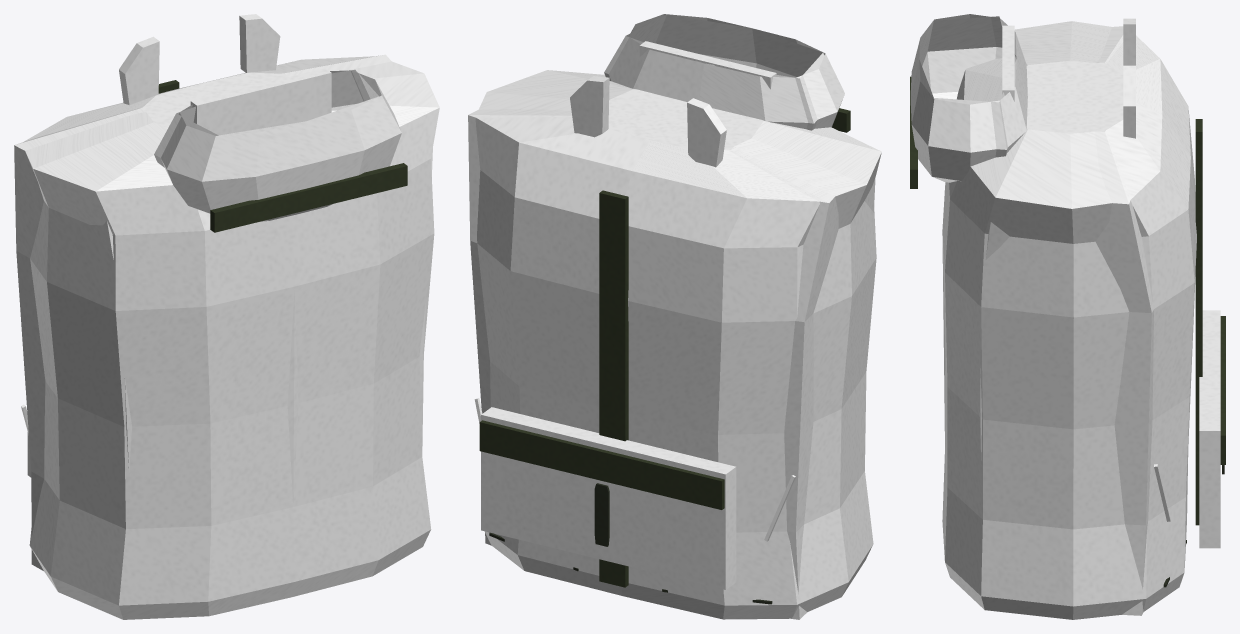
The model's file is jacket_sumrak.glb.
The picture shows the model from 3 angles, left to right: view 1: azimuth 30°, elevation 25°; view 2: azimuth 150°, elevation 25°; view 3: azimuth 270°, elevation 25°; orthographic projection. The views are drawn at different scales.
Parts seen in each view (by area): view 1: jacket_sumrak_torso_LOD0_RAID_cloth.001, jacket_sumrak_torso_LOD1_RAID_cloth.001, jacket_sumrak_torso_LOD0_RAID_reinforce.001, jacket_sumrak_torso_LOD1_RAID_reinforce.001; view 2: jacket_sumrak_torso_LOD0_RAID_cloth.001, jacket_sumrak_torso_LOD1_RAID_cloth.001, jacket_sumrak_torso_LOD0_RAID_reinforce.001, jacket_sumrak_torso_LOD1_RAID_reinforce.001, jacket_sumrak_torso_LOD0_RAID_seam.001; view 3: jacket_sumrak_torso_LOD0_RAID_cloth.001, jacket_sumrak_torso_LOD1_RAID_cloth.001, jacket_sumrak_torso_LOD0_RAID_reinforce.001, jacket_sumrak_torso_LOD1_RAID_reinforce.001.
Boxes of the visible parts, box(x1,y1,x2,y2) form: jacket_sumrak_torso_LOD0_RAID_cloth.001: box(21, 14, 439, 619); jacket_sumrak_torso_LOD1_RAID_cloth.001: box(14, 54, 432, 570); jacket_sumrak_torso_LOD0_RAID_reinforce.001: box(158, 81, 407, 229); jacket_sumrak_torso_LOD1_RAID_reinforce.001: box(158, 80, 407, 232); jacket_sumrak_torso_LOD0_RAID_cloth.001: box(474, 14, 881, 619); jacket_sumrak_torso_LOD1_RAID_cloth.001: box(468, 14, 875, 619); jacket_sumrak_torso_LOD0_RAID_reinforce.001: box(479, 112, 850, 587); jacket_sumrak_torso_LOD1_RAID_reinforce.001: box(479, 108, 850, 587); jacket_sumrak_torso_LOD0_RAID_seam.001: box(489, 483, 772, 604); jacket_sumrak_torso_LOD0_RAID_cloth.001: box(910, 14, 1220, 619); jacket_sumrak_torso_LOD1_RAID_cloth.001: box(919, 16, 1220, 615); jacket_sumrak_torso_LOD0_RAID_reinforce.001: box(910, 87, 1225, 470); jacket_sumrak_torso_LOD1_RAID_reinforce.001: box(910, 76, 1225, 525).
Bounding box in the file's own units: 0.499 × 0.6227 × 0.3545.
Materials: 3 (3 with a texture image).
